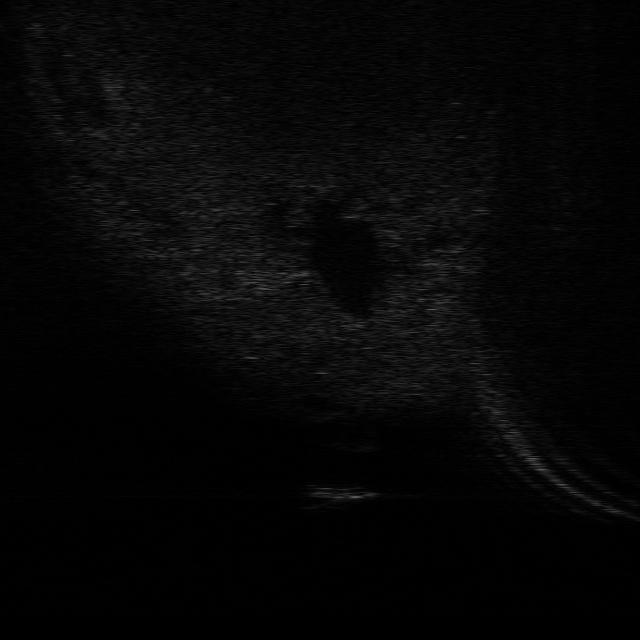cube: (304, 478, 381, 511)
